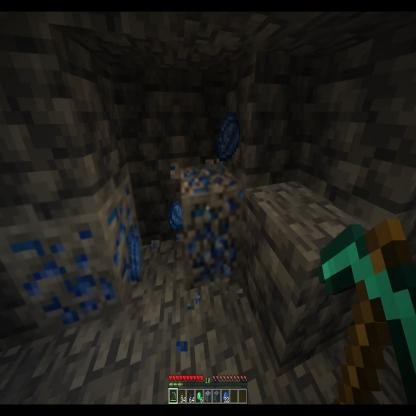lapis ore: (0, 173, 143, 337), (179, 164, 246, 286)
